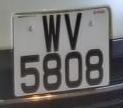0: (63, 48, 87, 91)
5: (17, 49, 43, 97)
8: (40, 49, 67, 94), (84, 45, 105, 89)
V: (62, 9, 85, 52)
W: (38, 11, 65, 55)
